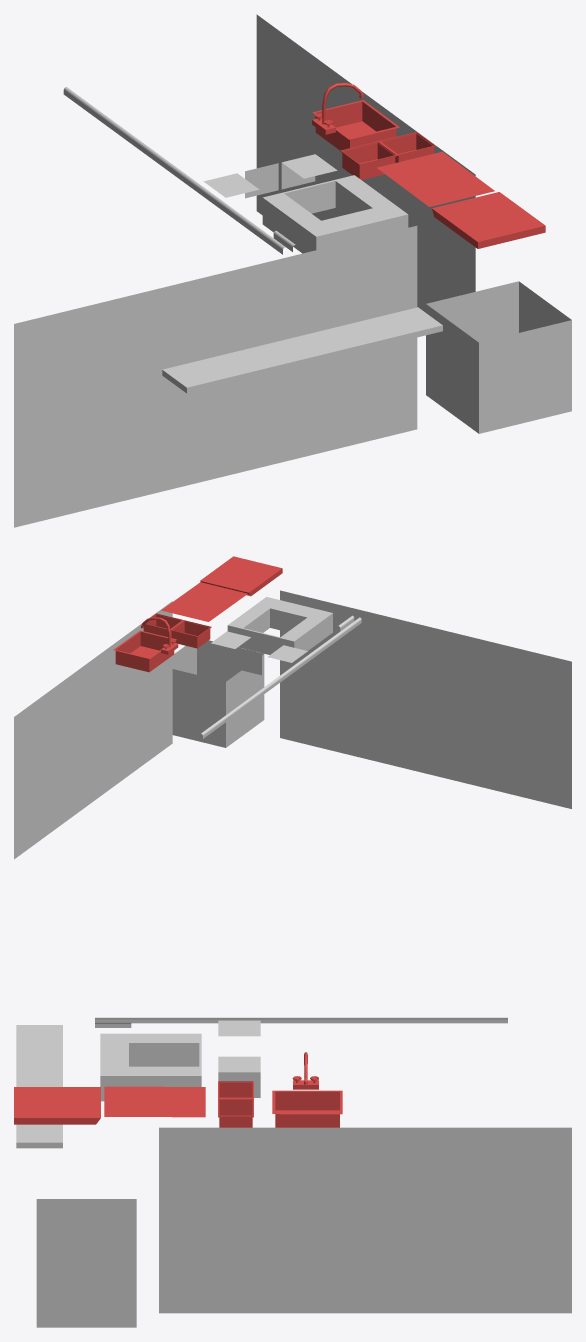
File: Bar Pieces.fbx
The picture shows the model from 3 angles, top to bottom: view 1: azimuth 30°, elevation 25°; view 2: azimuth 150°, elevation 25°; view 3: azimuth 270°, elevation 25°; orthographic projection. The views are drawn at different scales.
Visible parts, largest first — view 1: Cube.003, Plane.006, Cube.004, Cube.001, Cube.002, Cube.005, Bar Door, Bar Front.005, Bar Front.001, Bar Front.002, Plane.001, Plane.002 (+2 smaller); view 2: Cube.003, Plane.006, Cube.004, Cube.002, Cube.005, Bar Front.001, Bar Door, Bar Front.005, Bar Front.002, Plane.001, Plane.002, Plane.005 (+1 smaller); view 3: Plane.006, Cube.005, Cube.002, Cube.001, Bar Door, Bar Front.005, Bar Front.001, Plane.001, Bar Front.002, Plane.002, Plane.004.
Boxes of the visible parts, <box> form: Cube.003: <box>14,225,417,527</box>; Plane.006: <box>256,14,475,312</box>; Cube.004: <box>426,281,571,433</box>; Cube.001: <box>162,307,442,393</box>; Cube.002: <box>262,175,408,253</box>; Cube.005: <box>426,281,571,433</box>; Bar Door: <box>432,192,545,248</box>; Bar Front.005: <box>377,151,494,206</box>; Bar Front.001: <box>312,83,399,150</box>; Bar Front.002: <box>340,132,435,179</box>; Plane.001: <box>63,87,285,254</box>; Plane.002: <box>281,154,337,189</box>; Cube.003: <box>280,590,571,808</box>; Plane.006: <box>14,601,172,859</box>; Cube.004: <box>172,640,263,747</box>; Cube.002: <box>227,597,332,654</box>; Cube.005: <box>172,646,264,747</box>; Bar Front.001: <box>113,617,178,672</box>; Bar Door: <box>200,556,282,596</box>; Bar Front.005: <box>161,582,247,621</box>; Bar Front.002: <box>143,613,211,648</box>; Plane.001: <box>201,617,361,738</box>; Plane.002: <box>210,631,250,668</box>; Plane.005: <box>237,650,261,675</box>; Plane.006: <box>159,1127,571,1313</box>; Cube.005: <box>36,1199,136,1327</box>; Cube.002: <box>100,1033,201,1101</box>; Cube.001: <box>16,1025,62,1148</box>; Bar Door: <box>14,1087,100,1124</box>; Bar Front.005: <box>104,1086,205,1117</box>; Bar Front.001: <box>272,1052,342,1127</box>; Plane.001: <box>95,1017,507,1023</box>; Bar Front.002: <box>218,1081,253,1127</box>; Plane.002: <box>218,1056,260,1097</box>; Plane.004: <box>218,1020,260,1036</box>.
Size of the model in its own units: 312 by 297 by 136.
